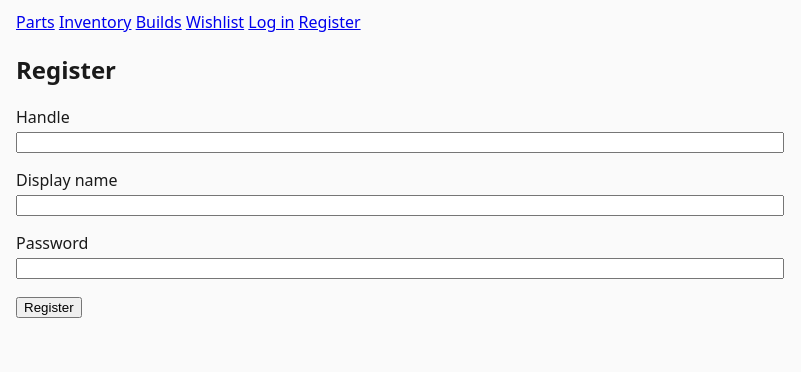
Test: Register page › shows the handle message and sends nothing for a handle with two characters
Type "ab" into the field labelled "Handle" at (400, 142), box x1=16 y1=132 x2=784 y2=153
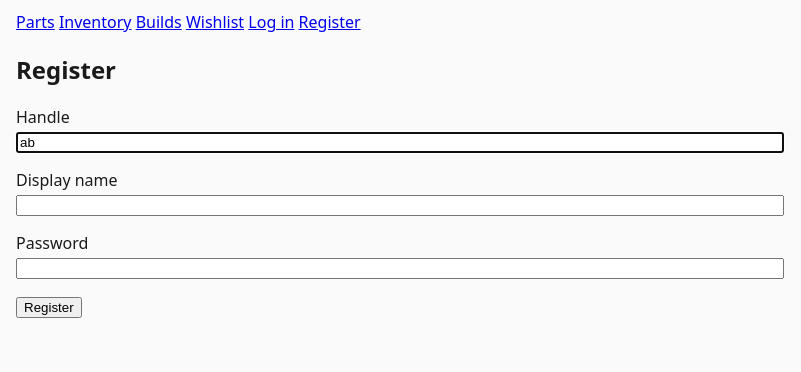
Type "mot-de-passe-test" into the password field labelled "Password" at (400, 268), box x1=16 y1=258 x2=784 y2=279
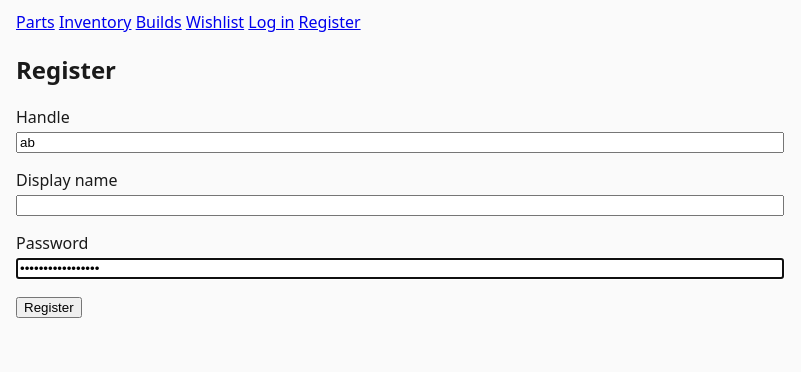
Click the button "Register" at (49, 307), box x1=16 y1=297 x2=82 y2=318
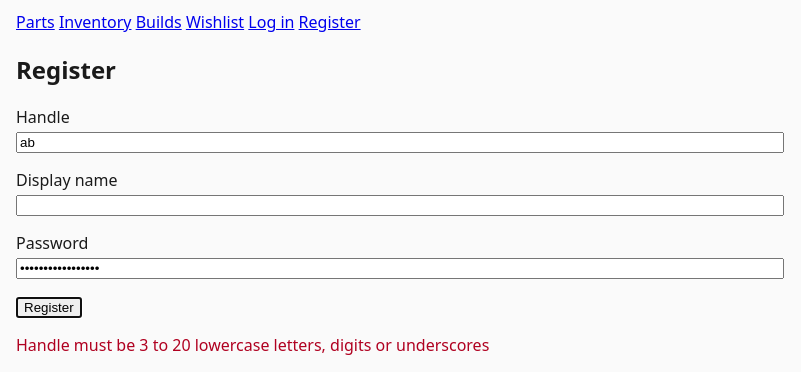
Expected: the heading "Register" is shown, x1=16 y1=53 x2=116 y2=86
Expected: the message reads "Handle must be 3 to 20 lowercase letters, digits or underscores", x1=16 y1=334 x2=489 y2=356
